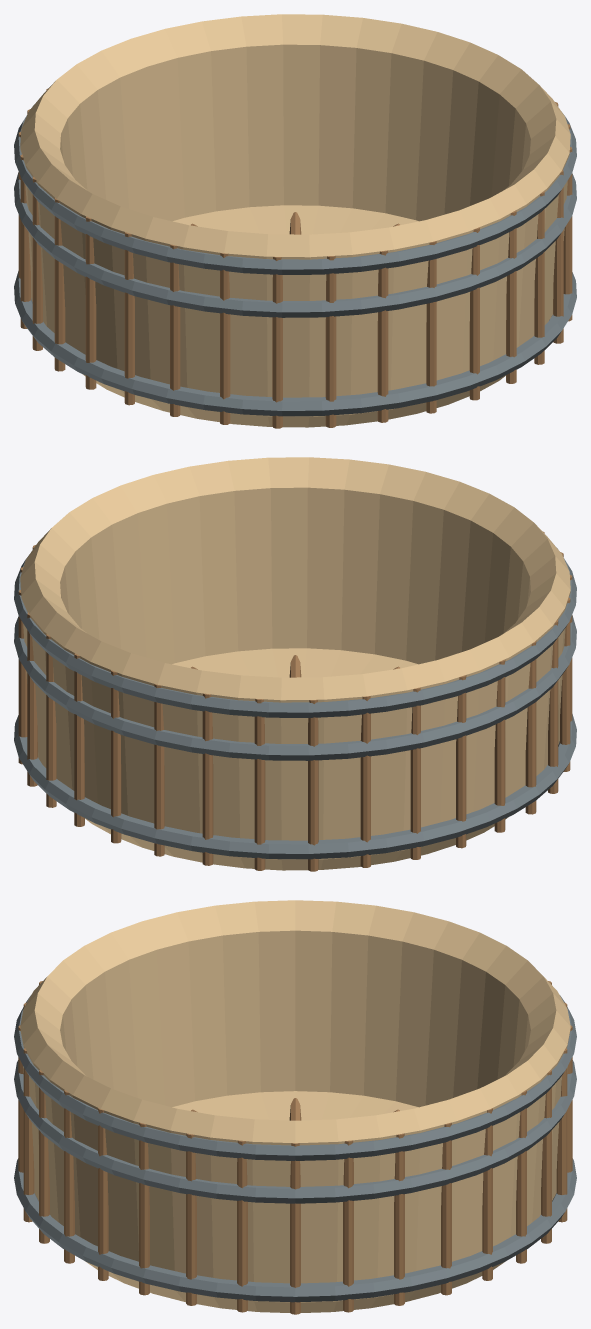
The model's file is kitchen_hangiri.glb.
3 views of the same model, one above another, from view 1: azimuth 30°, elevation 25°; view 2: azimuth 150°, elevation 25°; view 3: azimuth 270°, elevation 25° (orthographic).
Visible parts, largest first — view 1: Hangiri wide cedar tub, Blackened copper binding, Blackened copper binding.001, Blackened copper binding.002, Individual wooden staves22, Individual wooden staves23, Individual wooden staves17, Individual wooden staves21, Individual wooden staves20, Individual wooden staves18, Individual wooden staves19, Individual wooden staves24 (+8 smaller); view 2: Hangiri wide cedar tub, Blackened copper binding, Blackened copper binding.001, Blackened copper binding.002, Individual wooden staves10, Individual wooden staves9, Individual wooden staves15, Individual wooden staves11, Individual wooden staves12, Individual wooden staves14, Individual wooden staves13, Individual wooden staves8 (+8 smaller); view 3: Hangiri wide cedar tub, Blackened copper binding, Blackened copper binding.001, Blackened copper binding.002, Individual wooden staves1, Individual wooden staves31, Individual wooden staves2, Individual wooden staves30, Individual wooden staves0, Individual wooden staves3, Individual wooden staves29, Individual wooden staves4 (+7 smaller).
Part boxes in pixels (x1=…): Hangiri wide cedar tub: x1=20, y1=14, x2=570, y2=427; Blackened copper binding: x1=14, y1=271, x2=576, y2=416; Blackened copper binding.001: x1=14, y1=172, x2=576, y2=317; Blackened copper binding.002: x1=14, y1=105, x2=576, y2=274; Individual wooden staves22: x1=325, y1=255, x2=336, y2=427; Individual wooden staves23: x1=377, y1=250, x2=388, y2=422; Individual wooden staves17: x1=85, y1=216, x2=96, y2=389; Individual wooden staves21: x1=272, y1=256, x2=282, y2=428; Individual wooden staves20: x1=220, y1=253, x2=230, y2=424; Individual wooden staves18: x1=124, y1=232, x2=134, y2=405; Individual wooden staves19: x1=170, y1=244, x2=180, y2=416; Individual wooden staves24: x1=426, y1=241, x2=436, y2=413; Hangiri wide cedar tub: x1=20, y1=457, x2=570, y2=870; Blackened copper binding: x1=14, y1=714, x2=576, y2=859; Blackened copper binding.001: x1=14, y1=615, x2=576, y2=760; Blackened copper binding.002: x1=14, y1=548, x2=576, y2=717; Individual wooden staves10: x1=254, y1=698, x2=265, y2=870; Individual wooden staves9: x1=202, y1=693, x2=213, y2=865; Individual wooden staves15: x1=494, y1=659, x2=505, y2=832; Individual wooden staves11: x1=308, y1=699, x2=318, y2=871; Individual wooden staves12: x1=360, y1=696, x2=370, y2=867; Individual wooden staves14: x1=456, y1=675, x2=466, y2=848; Individual wooden staves13: x1=410, y1=687, x2=420, y2=859; Individual wooden staves8: x1=154, y1=684, x2=164, y2=856; Hangiri wide cedar tub: x1=20, y1=900, x2=570, y2=1313; Blackened copper binding: x1=14, y1=1158, x2=576, y2=1302; Blackened copper binding.001: x1=14, y1=1060, x2=576, y2=1203; Blackened copper binding.002: x1=14, y1=995, x2=576, y2=1160; Individual wooden staves1: x1=343, y1=1140, x2=353, y2=1312; Individual wooden staves31: x1=237, y1=1140, x2=247, y2=1312; Individual wooden staves2: x1=394, y1=1133, x2=404, y2=1305; Individual wooden staves30: x1=186, y1=1133, x2=196, y2=1305; Individual wooden staves0: x1=290, y1=1143, x2=300, y2=1314; Individual wooden staves3: x1=441, y1=1122, x2=451, y2=1295; Individual wooden staves29: x1=139, y1=1122, x2=149, y2=1295; Individual wooden staves4: x1=482, y1=1108, x2=492, y2=1280.
Bounding box in the file's own units: 1.95 × 0.7905 × 1.95.
